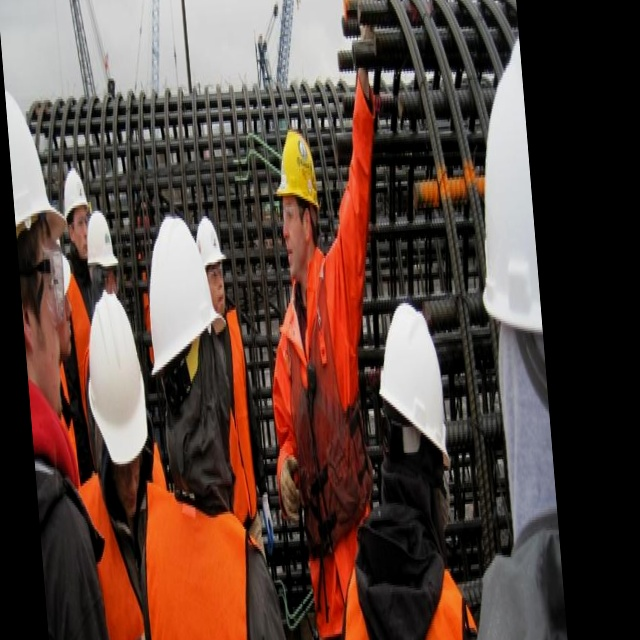Con_Casco: (274, 131, 322, 262)
